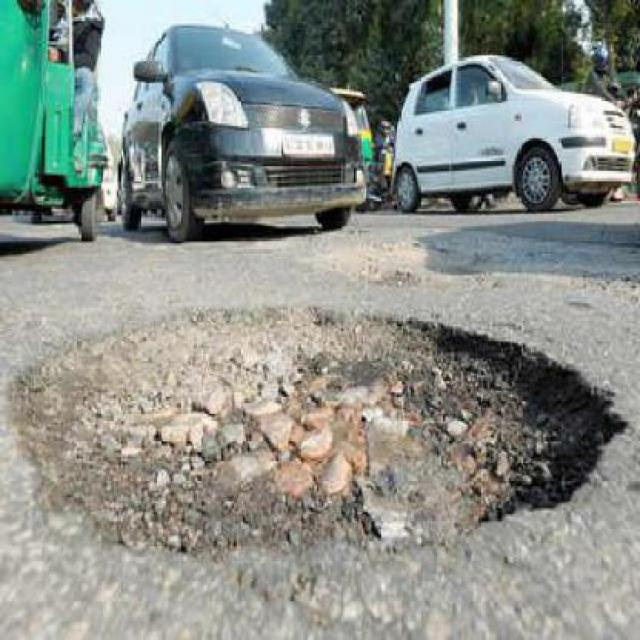Pothole: (4, 298, 628, 561), (316, 234, 452, 285)
